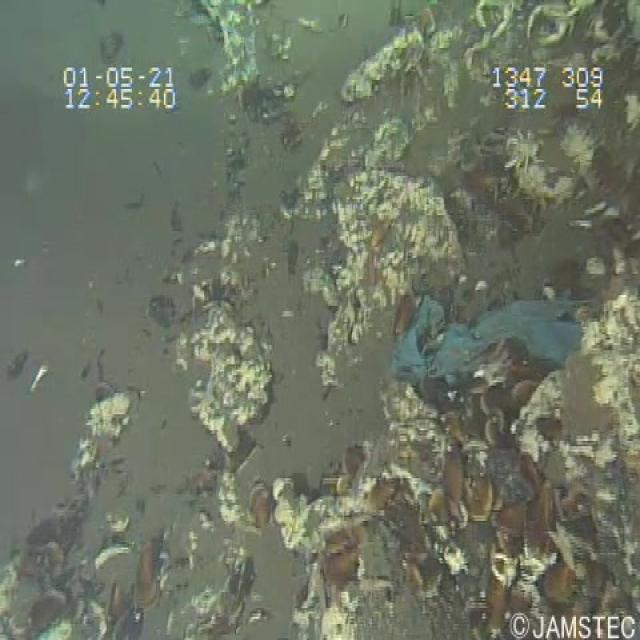plastic: (384, 276, 600, 402)
